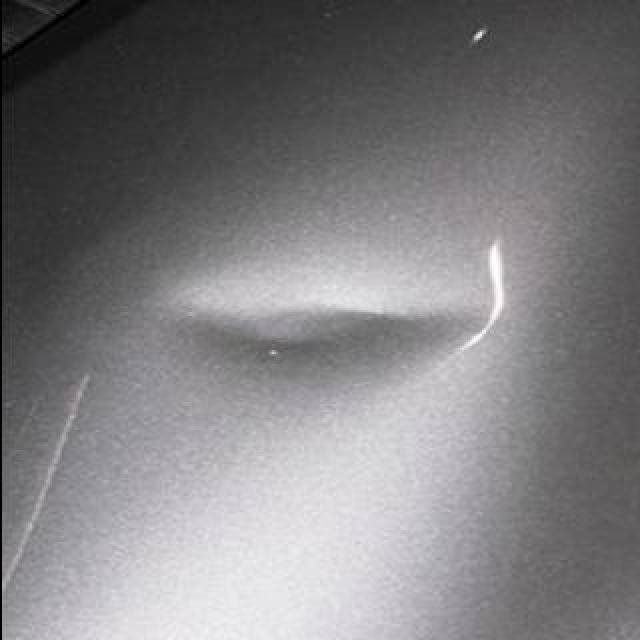dent: (145, 275, 517, 383)
